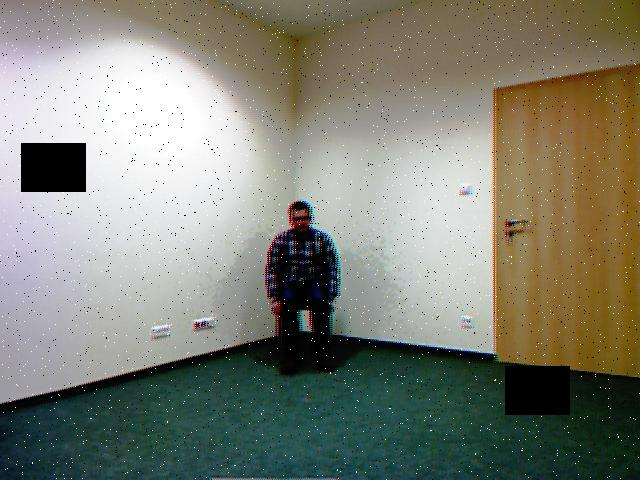sitting: (258, 181, 360, 383)
